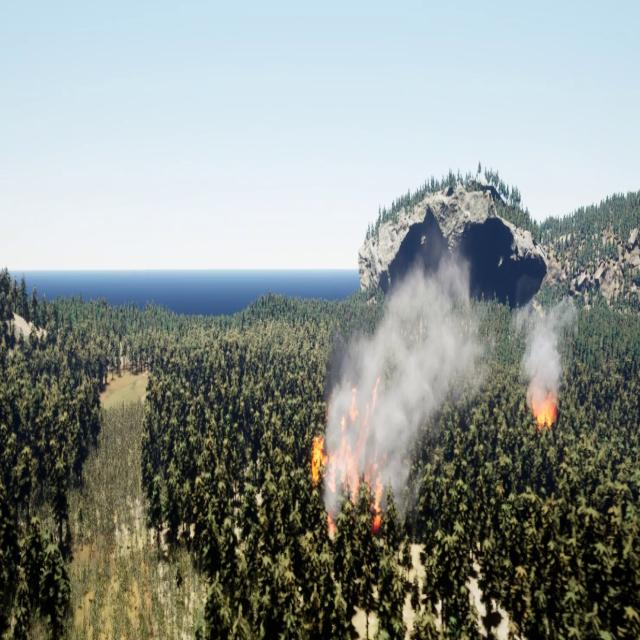fire: (302, 371, 390, 550), (529, 388, 562, 428)
smoke: (321, 243, 493, 527), (511, 301, 582, 395)
